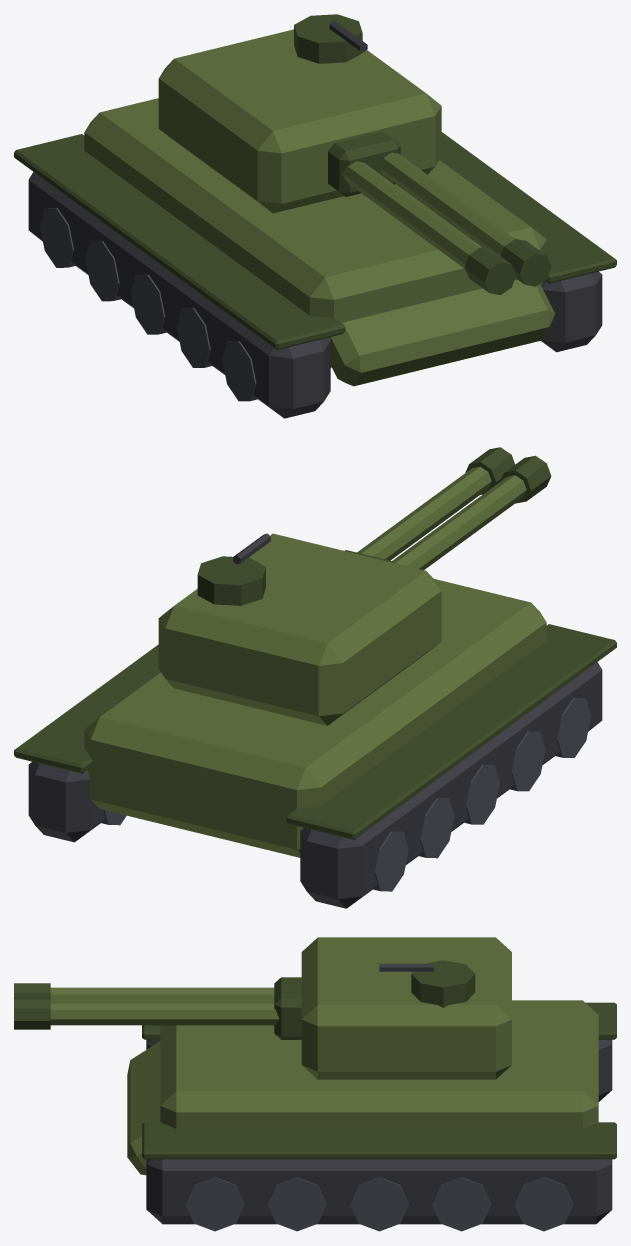
File: HeavyTank.fbx
The picture shows the model from 3 angles, top to bottom: view 1: azimuth 30°, elevation 25°; view 2: azimuth 150°, elevation 25°; view 3: azimuth 270°, elevation 25°; orthographic projection. The views are drawn at different scales.
Parts seen in each view (by area): view 1: HeavyTank, HeavyTank_Turret; view 2: HeavyTank, HeavyTank_Turret; view 3: HeavyTank, HeavyTank_Turret.
Boxes of the visible parts, x1,y1,x2,y2 form: HeavyTank: [14, 98, 616, 418]; HeavyTank_Turret: [158, 14, 551, 295]; HeavyTank: [14, 579, 616, 908]; HeavyTank_Turret: [158, 447, 551, 725]; HeavyTank: [127, 1000, 616, 1231]; HeavyTank_Turret: [14, 937, 511, 1079].
Size of the model in its own units: 7.8 by 5.2 by 13.2.
1 material, 1 textured.
